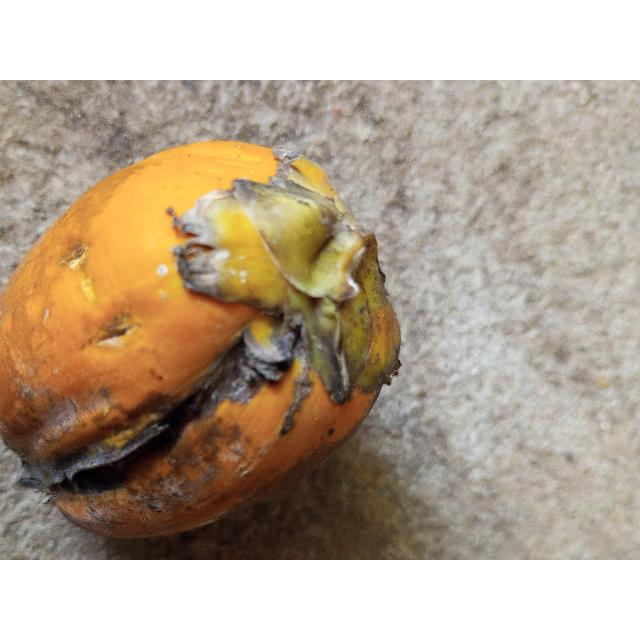damaged: (0, 141, 400, 536)
